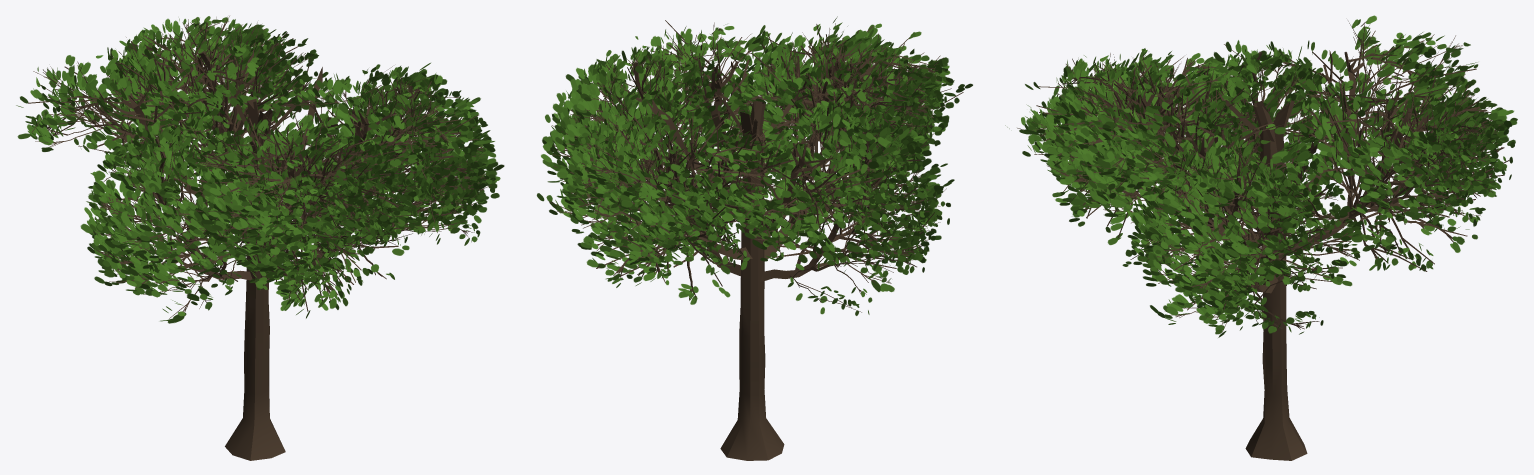
3 renders of one model, left to right at view 1: azimuth 30°, elevation 25°; view 2: azimuth 150°, elevation 25°; view 3: azimuth 270°, elevation 25°, orthographic.
Visible parts, largest first — view 1: oak 01.001_trunk_Mat.001_0.112; view 2: oak 01.001_trunk_Mat.001_0.112; view 3: oak 01.001_trunk_Mat.001_0.112.
Part boxes in pixels (x1,y1,x2,y2): oak 01.001_trunk_Mat.001_0.112: (16,16,504,460); oak 01.001_trunk_Mat.001_0.112: (536,16,972,460); oak 01.001_trunk_Mat.001_0.112: (1005,15,1517,460).
Size of the model in its own units: 5.2 by 4.26 by 5.47.
2 materials, 1 textured.
